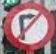Cam re: (4, 4, 54, 50)
